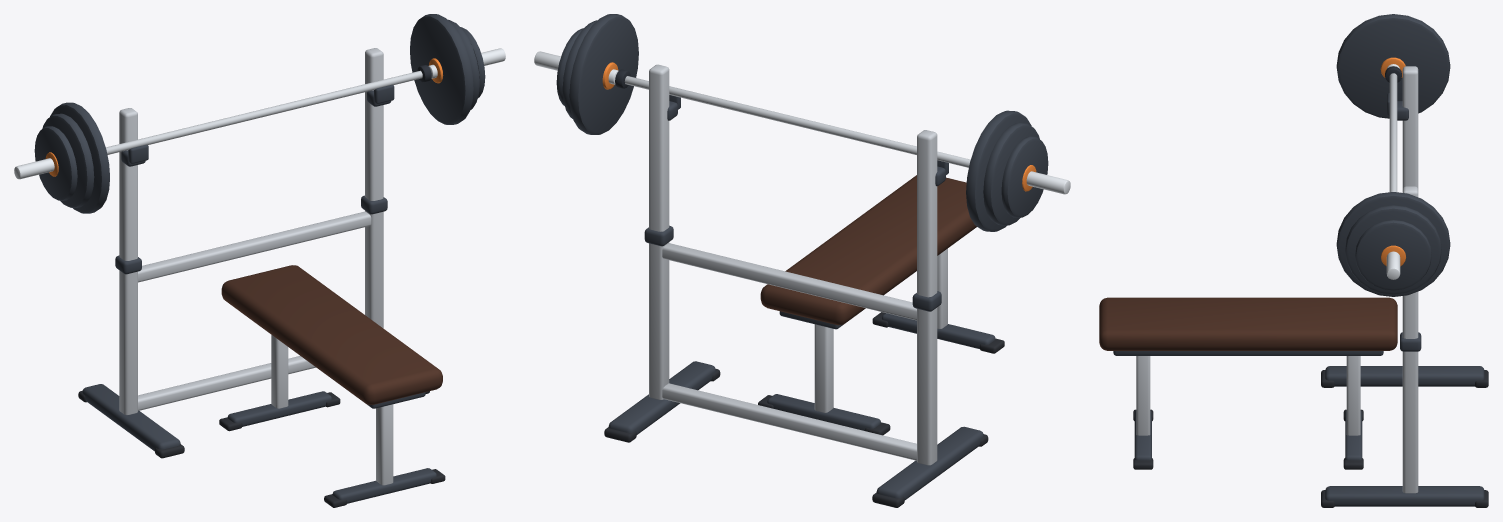
File: supino_barra.glb
3 renders of one model, left to right at view 1: azimuth 30°, elevation 25°; view 2: azimuth 150°, elevation 25°; view 3: azimuth 270°, elevation 25°, orthographic. The views are drawn at different scales.
Visible parts, largest first — view 1: supino_barra; view 2: supino_barra; view 3: supino_barra.
Part boxes in pixels (x1=…): supino_barra: x1=14, y1=14, x2=505, y2=507; supino_barra: x1=534, y1=14, x2=1070, y2=507; supino_barra: x1=1099, y1=14, x2=1488, y2=507.
Size of the model in its own units: 1.98 by 1.32 by 1.37.
Materials: 1 (1 with a texture image).
